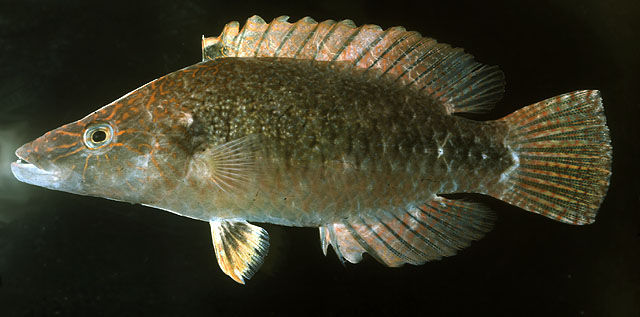fish: (10, 14, 614, 285)
